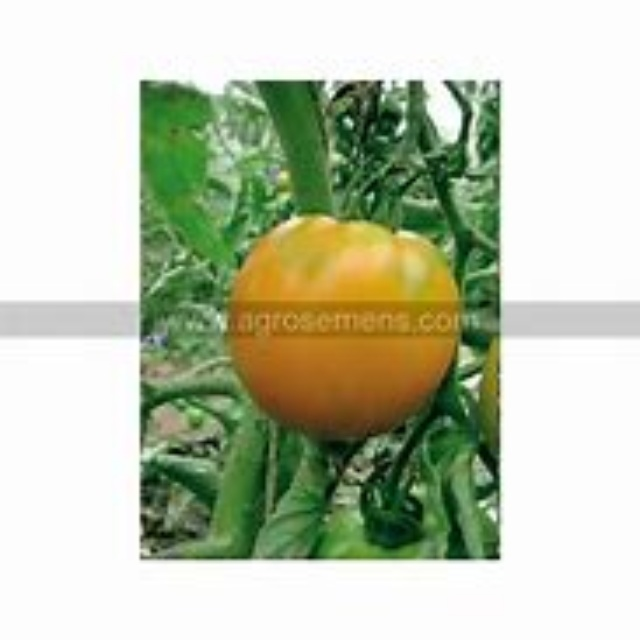tomato: (233, 213, 461, 435)
